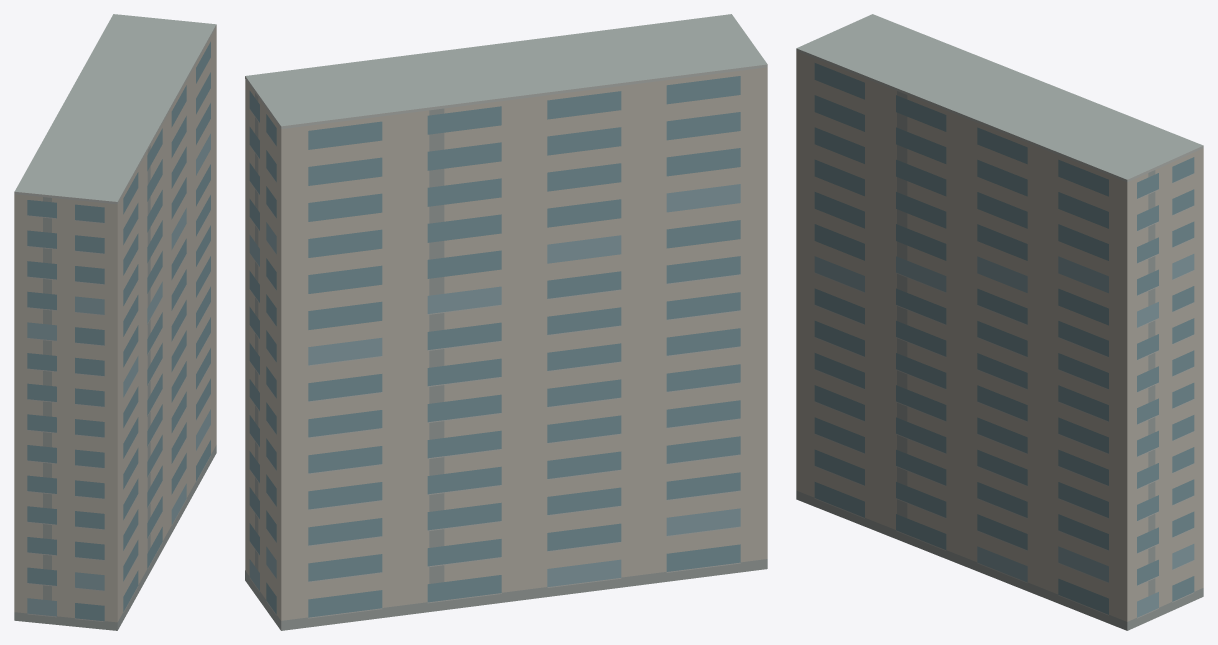
Rendered from residential-386ee351-bd97-423a-9892-8d31a80d8aca.glb.
The picture shows the model from 3 angles, left to right: view 1: azimuth 30°, elevation 25°; view 2: azimuth 150°, elevation 25°; view 3: azimuth 270°, elevation 25°; orthographic projection. The views are drawn at different scales.
Visible parts, largest first — view 1: residential-386ee351-bd97-423a-9892-8d31a80d8aca.tmp; view 2: residential-386ee351-bd97-423a-9892-8d31a80d8aca.tmp; view 3: residential-386ee351-bd97-423a-9892-8d31a80d8aca.tmp.
Part boxes in pixels (x1,y1,x2,y2): residential-386ee351-bd97-423a-9892-8d31a80d8aca.tmp: (14, 14, 216, 630); residential-386ee351-bd97-423a-9892-8d31a80d8aca.tmp: (245, 14, 767, 630); residential-386ee351-bd97-423a-9892-8d31a80d8aca.tmp: (796, 14, 1203, 630).
Size of the model in its own units: 33.67 by 42.7 by 34.95.
